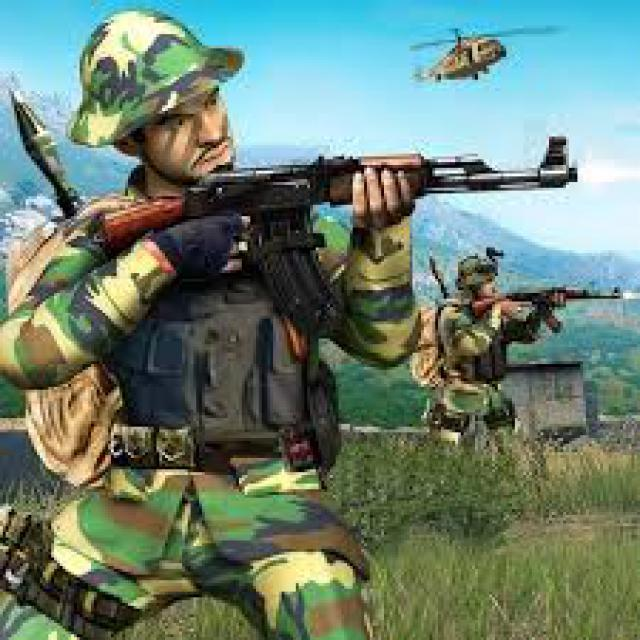long weapon: (92, 124, 592, 295), (451, 274, 634, 351)
